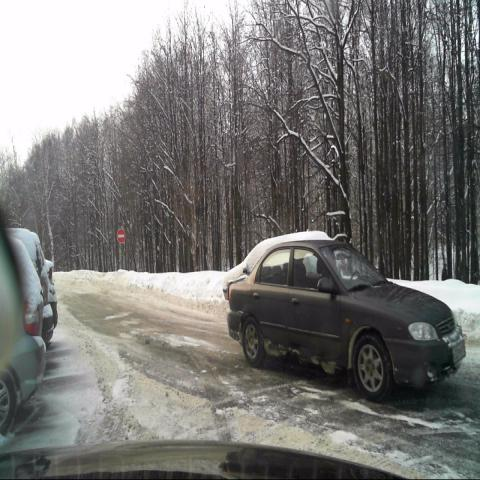3_1: (116, 228, 126, 244)
